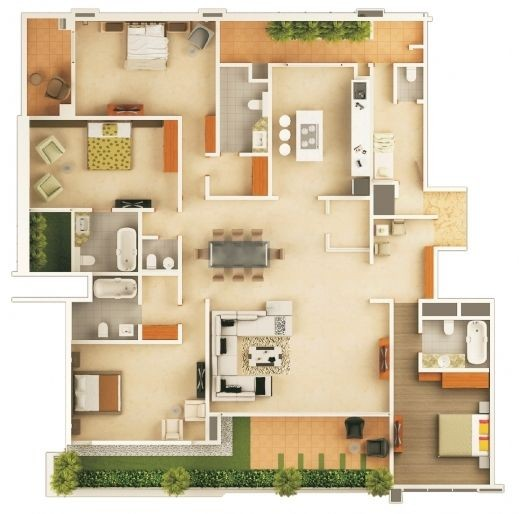room: (202, 292, 396, 419), (385, 297, 499, 491), (68, 10, 219, 121), (65, 337, 213, 449), (16, 115, 182, 213), (265, 57, 375, 203), (216, 11, 429, 68), (365, 59, 439, 221), (21, 11, 74, 119), (213, 62, 272, 155), (69, 207, 142, 276)
